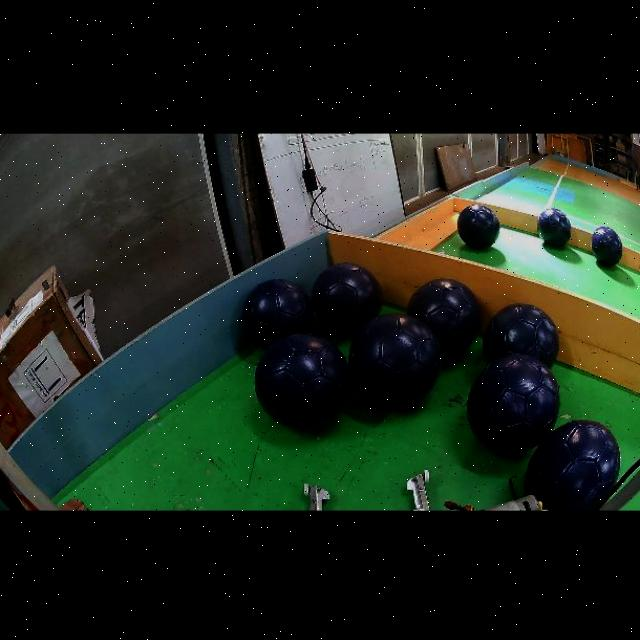B: (255, 333, 351, 430), (468, 354, 559, 453), (524, 421, 620, 511), (350, 313, 441, 406), (407, 279, 481, 358), (312, 262, 382, 334), (483, 304, 559, 368), (242, 279, 313, 347), (457, 204, 500, 250), (537, 208, 571, 248), (591, 227, 622, 267)
